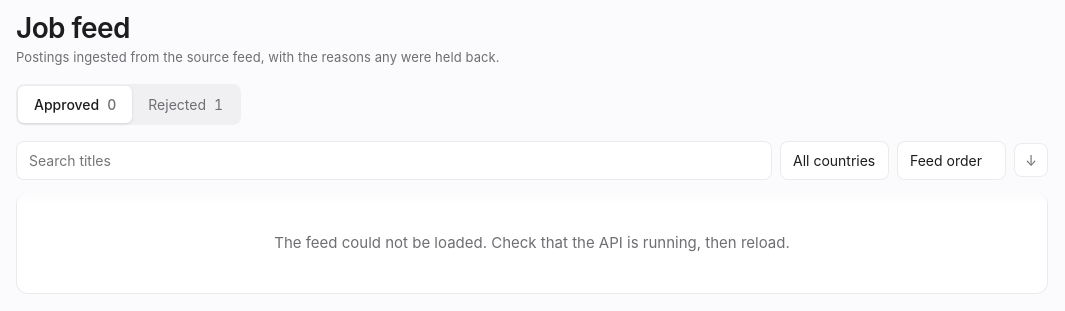
Scenario: App › still shows rejected postings when the approved query has failed
Expected: the text "could not be loaded" is shown, [274,233,790,252]
Click the button "Rejected1".
click(186, 104)  # box [132,86,239,123]
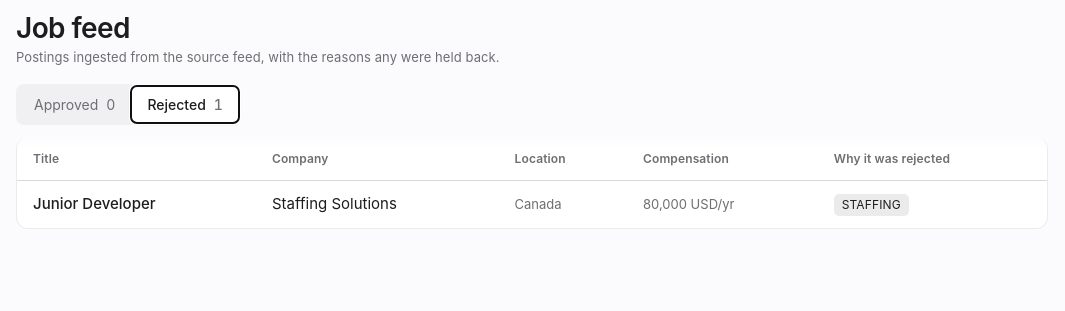
Expected: the text "Junior Developer" is shown, [17,180,256,228]
Expected: the text "could not be loaded" is gone
